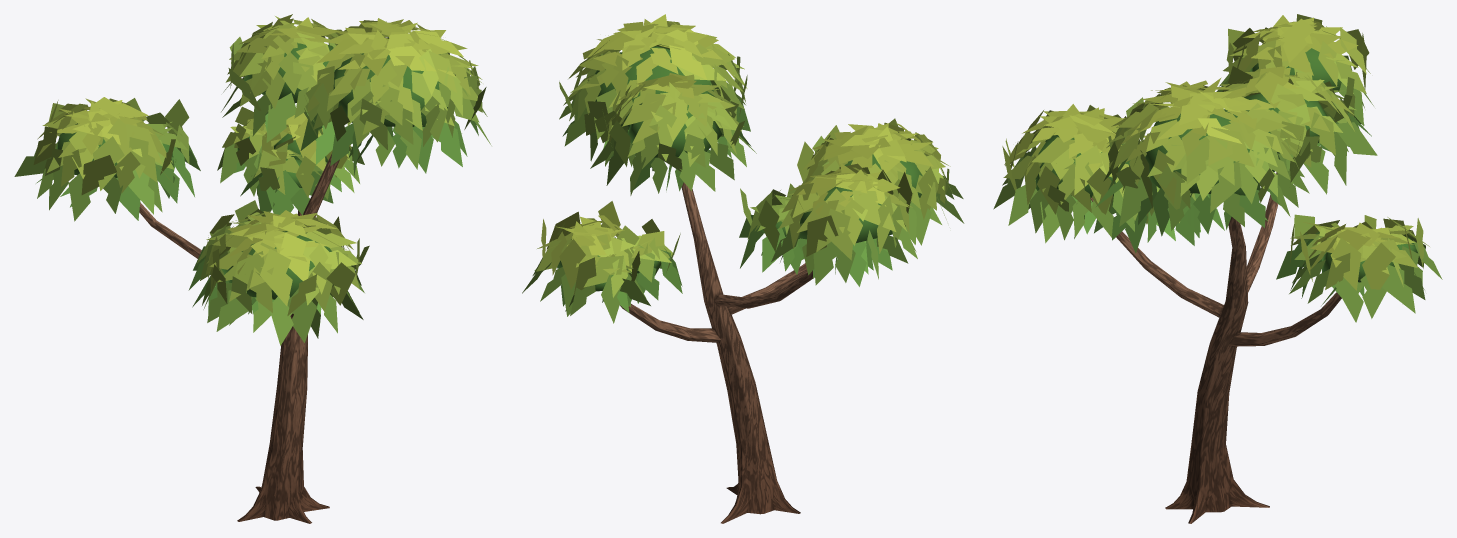
File: tree_2.glb
The picture shows the model from 3 angles, left to right: view 1: azimuth 30°, elevation 25°; view 2: azimuth 150°, elevation 25°; view 3: azimuth 270°, elevation 25°; orthographic projection. The views are drawn at different scales.
Parts seen in each view (by area): view 1: tree_2; view 2: tree_2; view 3: tree_2.
Part boxes in pixels (bbox=[...]): tree_2: bbox=[14, 14, 491, 523]; tree_2: bbox=[522, 14, 964, 523]; tree_2: bbox=[993, 14, 1442, 523].
Bounding box in the file's own units: 5.5 × 6.2 × 5.4.
2 materials, 2 textured.
